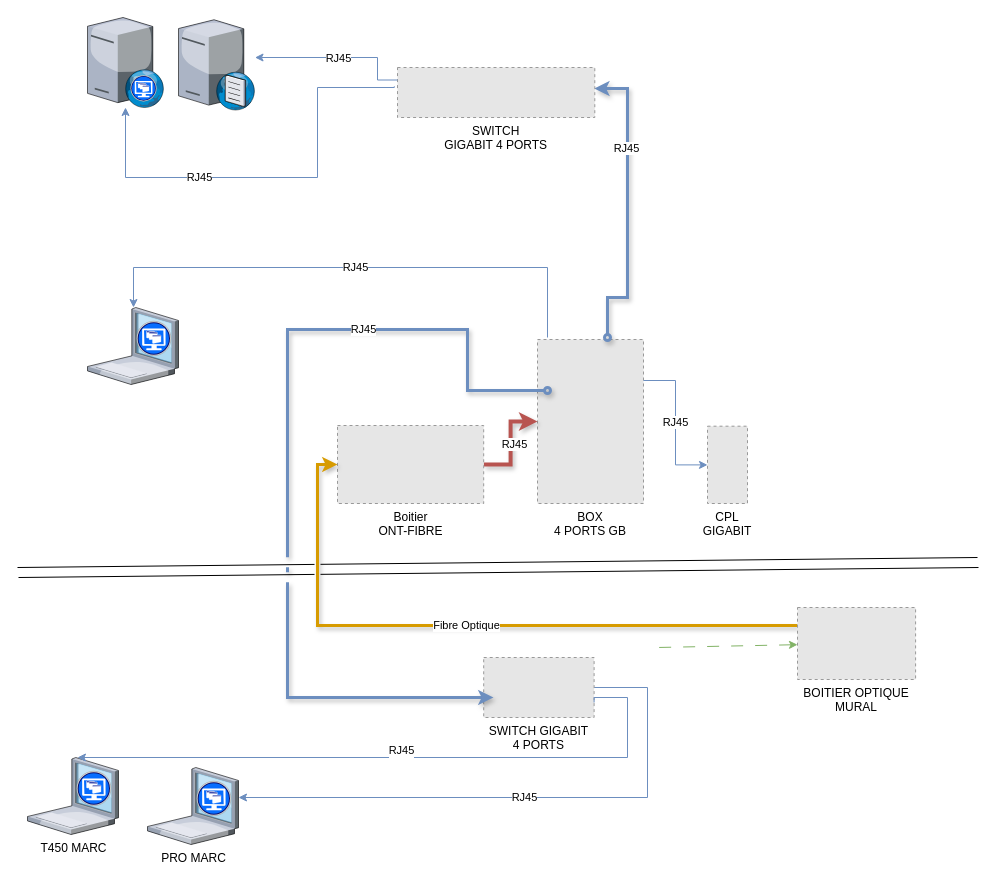
Some shapes in this 997 by 882 pixel diagram are drawn without their labels. Grey dashed boxes stand in for pictures. The shapes that lost their labels are listed below. From the top down, each one's centre as x and y in pixels, then its label:
At (x=125, y=62): "PC DOMO".
At (x=216, y=63): "RPI 3B JEEDOM".
At (x=132, y=345): "T450 VAL".
